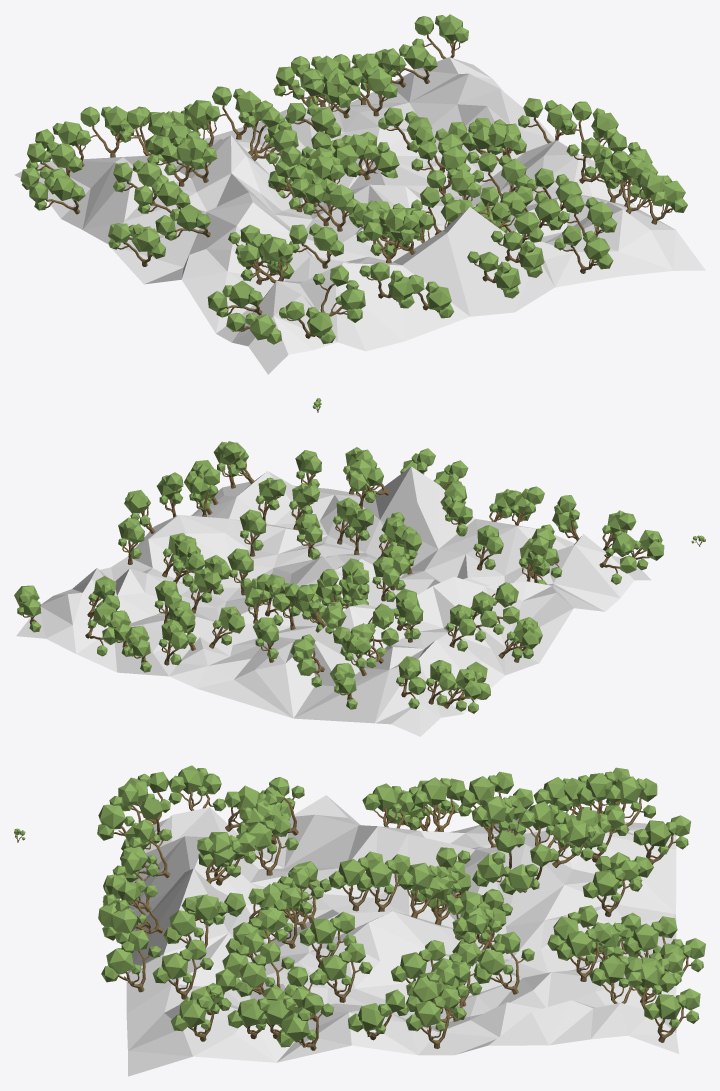
The model's file is terrainTreee 1.fbx.
3 renders of one model, top to bottom at view 1: azimuth 30°, elevation 25°; view 2: azimuth 150°, elevation 25°; view 3: azimuth 270°, elevation 25°, orthographic. The views are drawn at different scales.
Visible parts, largest first — view 1: Terrain2, Terrain2|Tree_lp_11|Dupli|95, Terrain2|Tree_lp_11|Dupli|99, Terrain2|Tree_lp_11|Dupli|83, Terrain2|Tree_lp_11|Dupli|60, Terrain2|Tree_lp_11|Dupli|79, Terrain2|Tree_lp_11|Dupli|88, Terrain2|Tree_lp_11|Dupli|72, Terrain2|Tree_lp_11|Dupli|27, Terrain2|Tree_lp_11|Dupli|7, Terrain2|Tree_lp_11|Dupli|52, Terrain2|Tree_lp_11|Dupli|32 (+53 smaller); view 2: Terrain2, Terrain2|Tree_lp_11|Dupli|87, Terrain2|Tree_lp_11|Dupli|19, Terrain2|Tree_lp_11|Dupli|16, Terrain2|Tree_lp_11|Dupli|15, Terrain2|Tree_lp_11|Dupli|34, Terrain2|Tree_lp_11|Dupli|89, Terrain2|Tree_lp_11|Dupli|72, Terrain2|Tree_lp_11|Dupli|8, Terrain2|Tree_lp_11|Dupli|22, Terrain2|Tree_lp_11|Dupli|9, Terrain2|Tree_lp_11|Dupli|57 (+56 smaller); view 3: Terrain2, Terrain2|Tree_lp_11|Dupli|30, Terrain2|Tree_lp_11|Dupli|99, Terrain2|Tree_lp_11|Dupli|51, Terrain2|Tree_lp_11|Dupli|93, Terrain2|Tree_lp_11|Dupli|88, Terrain2|Tree_lp_11|Dupli|23, Terrain2|Tree_lp_11|Dupli|66, Terrain2|Tree_lp_11|Dupli|17, Terrain2|Tree_lp_11|Dupli|45, Terrain2|Tree_lp_11|Dupli|7, Terrain2|Tree_lp_11|Dupli|61 (+68 smaller).
Part boxes in pixels (<box>): Terrain2: <box>14,57,705,374</box>; Terrain2|Tree_lp_11|Dupli|95: <box>313,265,365,322</box>; Terrain2|Tree_lp_11|Dupli|99: <box>554,225,613,273</box>; Terrain2|Tree_lp_11|Dupli|83: <box>610,157,667,213</box>; Terrain2|Tree_lp_11|Dupli|60: <box>302,182,359,231</box>; Terrain2|Tree_lp_11|Dupli|79: <box>239,236,292,283</box>; Terrain2|Tree_lp_11|Dupli|88: <box>558,193,617,244</box>; Terrain2|Tree_lp_11|Dupli|72: <box>289,223,343,268</box>; Terrain2|Tree_lp_11|Dupli|27: <box>29,175,85,214</box>; Terrain2|Tree_lp_11|Dupli|7: <box>412,14,468,58</box>; Terrain2|Tree_lp_11|Dupli|52: <box>108,223,165,266</box>; Terrain2|Tree_lp_11|Dupli|32: <box>244,106,298,160</box>; Terrain2: <box>16,466,651,736</box>; Terrain2|Tree_lp_11|Dupli|87: <box>599,531,636,584</box>; Terrain2|Tree_lp_11|Dupli|19: <box>290,634,324,687</box>; Terrain2|Tree_lp_11|Dupli|16: <box>396,656,425,708</box>; Terrain2|Tree_lp_11|Dupli|15: <box>425,660,455,706</box>; Terrain2|Tree_lp_11|Dupli|34: <box>445,604,475,651</box>; Terrain2|Tree_lp_11|Dupli|89: <box>347,458,389,502</box>; Terrain2|Tree_lp_11|Dupli|72: <box>473,525,503,570</box>; Terrain2|Tree_lp_11|Dupli|8: <box>158,620,187,665</box>; Terrain2|Tree_lp_11|Dupli|22: <box>209,606,245,648</box>; Terrain2|Tree_lp_11|Dupli|9: <box>85,601,118,656</box>; Terrain2|Tree_lp_11|Dupli|57: <box>491,582,519,634</box>; Terrain2: <box>126,795,679,1076</box>; Terrain2|Tree_lp_11|Dupli|30: <box>473,931,534,994</box>; Terrain2|Tree_lp_11|Dupli|99: <box>101,930,161,992</box>; Terrain2|Tree_lp_11|Dupli|51: <box>405,988,466,1048</box>; Terrain2|Tree_lp_11|Dupli|93: <box>110,881,163,944</box>; Terrain2|Tree_lp_11|Dupli|88: <box>152,939,213,999</box>; Terrain2|Tree_lp_11|Dupli|23: <box>556,922,614,981</box>; Terrain2|Tree_lp_11|Dupli|66: <box>276,992,333,1050</box>; Terrain2|Tree_lp_11|Dupli|17: <box>582,860,642,916</box>; Terrain2|Tree_lp_11|Dupli|45: <box>411,777,471,831</box>; Terrain2|Tree_lp_11|Dupli|7: <box>644,988,700,1042</box>; Terrain2|Tree_lp_11|Dupli|61: <box>315,942,372,1002</box>.
Size of the model in its own units: 112120 by 21497 by 126138.
